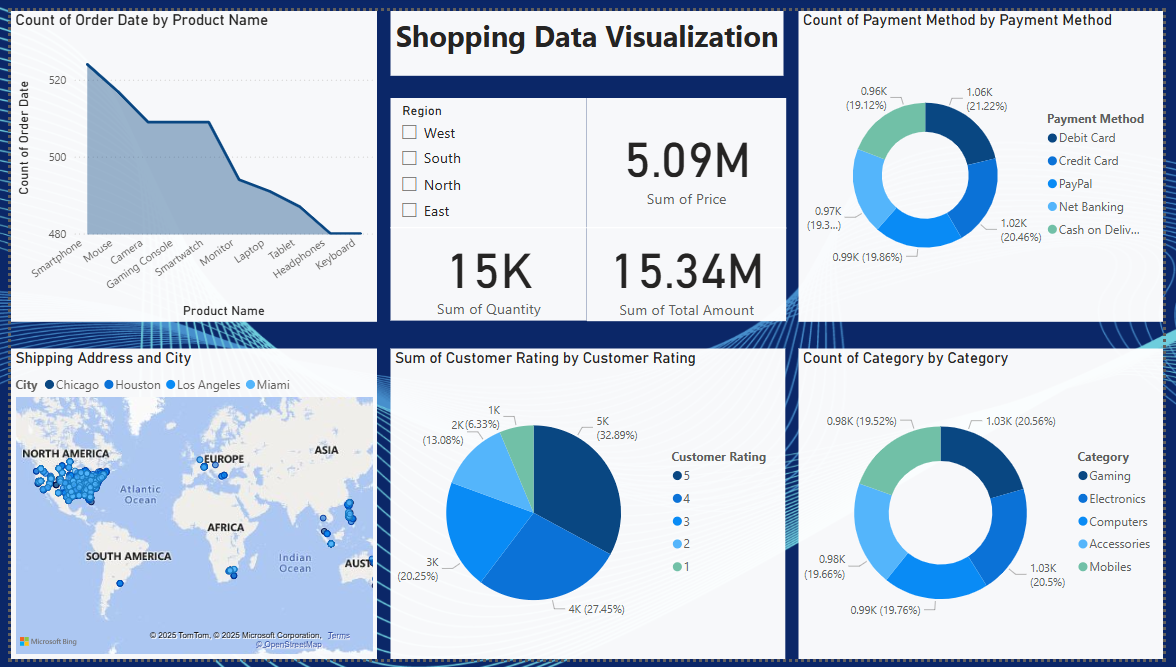

The dashboard page shown, as its layout file describes it:
{"tool":"powerbi","page":{"name":"Shopping","canvas":[1280,720],"ordinal":0},"visuals":[{"type":"map","fields":{"Category":["Sheet1.Shipping Address"],"Series":["Sheet1.City"]},"box":[0,375,406.7,345],"z":0},{"type":"donutChart","fields":{"Category":["Sheet1.Category"],"Y":["CountNonNull(Sheet1.Category)"]},"box":[875,375,405,345],"z":1000},{"type":"donutChart","fields":{"Y":["CountNonNull(Sheet1.Payment Method)"],"Category":["Sheet1.Payment Method"]},"box":[875,0,405,345],"z":2000},{"type":"areaChart","fields":{"Category":["Sheet1.Product Name"],"Y":["CountNonNull(Sheet1.Order Date)"]},"box":[0,0,406.7,345],"z":3000},{"type":"pieChart","fields":{"Category":["Sheet1.Customer Rating"],"Y":["Sum(Sheet1.Customer Rating)"]},"box":[421.7,375,438.3,345],"z":4000},{"type":"card","fields":{"Values":["Sum(Sheet1.Quantity)"]},"box":[421.3,240.7,218,104.1],"z":5000},{"type":"card","fields":{"Values":["Sum(Sheet1.Price)"]},"box":[639.5,96,221,144.5],"z":6000},{"type":"slicer","fields":{"Values":["Sheet1.Region"]},"box":[421.5,96,218,144.5],"z":7000},{"type":"textbox","box":[421.7,0,436.7,71.7],"z":8000},{"type":"card","fields":{"Values":["Sum(Sheet1.Total Amount)"]},"box":[639.5,240.5,221,104.5],"z":9000}]}

Visuals, with their boxes in screenshot pixels (x1, y1, x2, y2), scaled from the page's 1280x720 canvas onto the 1176x667 screenshot:
map - Sheet1.Shipping Address x Sheet1.City: l=0, t=347, r=374, b=666
donutChart - Sheet1.Category x CountNonNull(Sheet1.Category): l=804, t=347, r=1175, b=666
donutChart - CountNonNull(Sheet1.Payment Method) x Sheet1.Payment Method: l=804, t=0, r=1175, b=320
areaChart - Sheet1.Product Name x CountNonNull(Sheet1.Order Date): l=0, t=0, r=374, b=320
pieChart - Sheet1.Customer Rating x Sum(Sheet1.Customer Rating): l=387, t=347, r=790, b=666
card - Sum(Sheet1.Quantity): l=387, t=223, r=587, b=319
card - Sum(Sheet1.Price): l=588, t=89, r=791, b=223
slicer - Sheet1.Region: l=387, t=89, r=588, b=223
textbox: l=387, t=0, r=789, b=66
card - Sum(Sheet1.Total Amount): l=588, t=223, r=791, b=320
